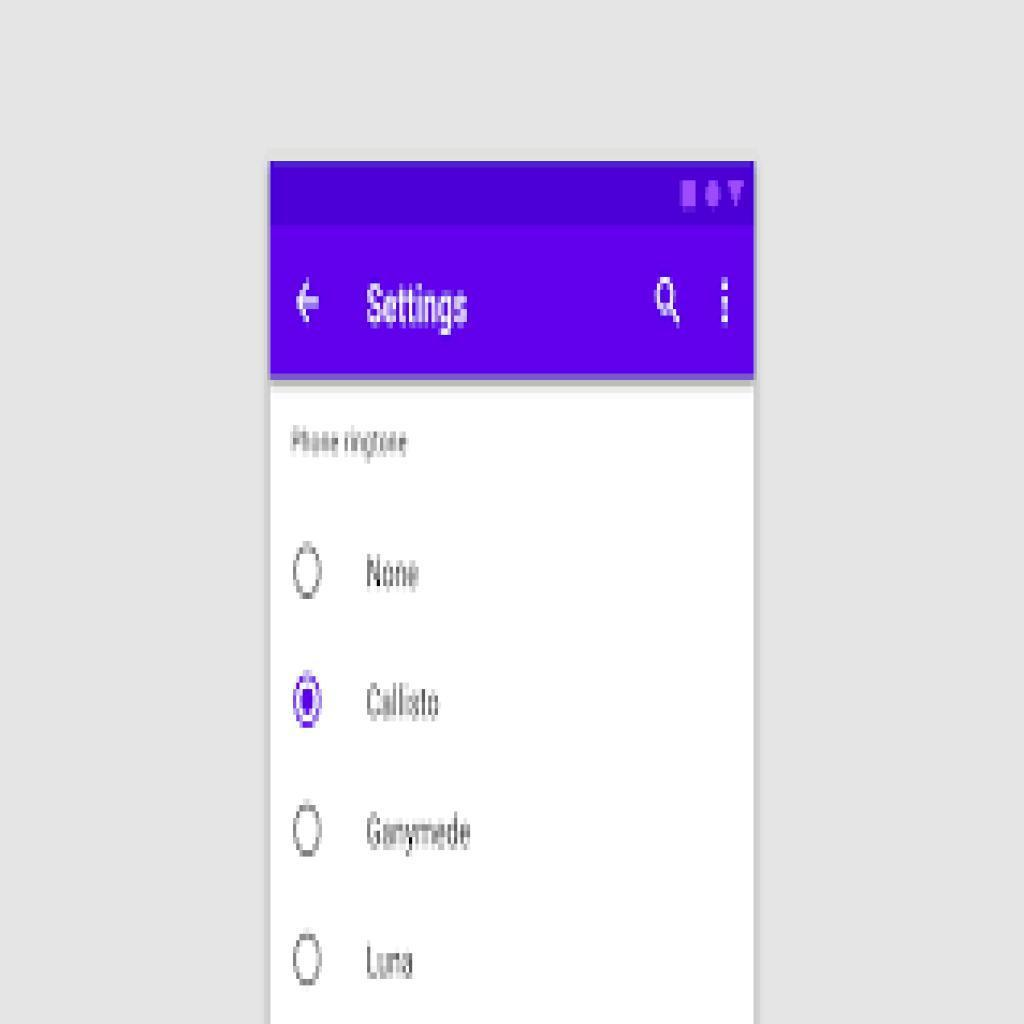radio: (291, 530, 331, 618), (289, 800, 328, 867), (291, 665, 326, 732), (292, 926, 326, 987)
